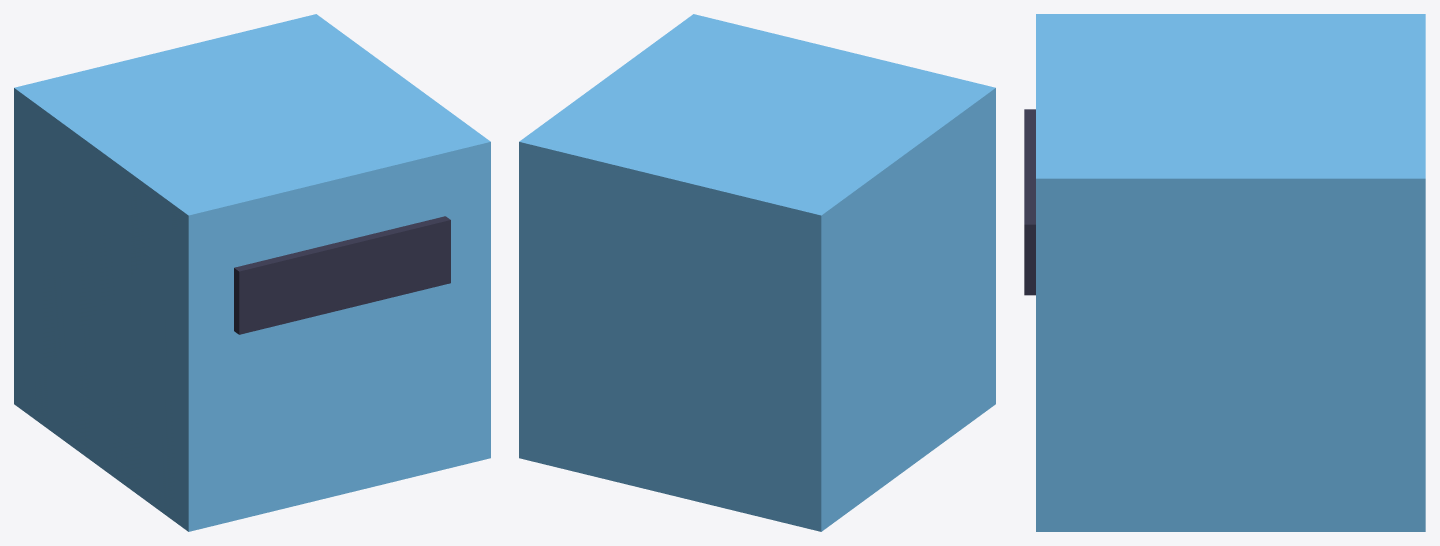
Rendered from player.gltf.
3 views of the same model, side by side, from view 1: azimuth 30°, elevation 25°; view 2: azimuth 150°, elevation 25°; view 3: azimuth 270°, elevation 25° (orthographic). The views are drawn at different scales.
Visible parts, largest first — view 1: Player; view 2: Player; view 3: Player.
Boxes of the visible parts, x1=… form: Player: x1=14, y1=14, x2=490, y2=531; Player: x1=519, y1=14, x2=995, y2=531; Player: x1=1024, y1=14, x2=1425, y2=531.
Bounding box in the file's own units: 1 × 1 × 1.03.
